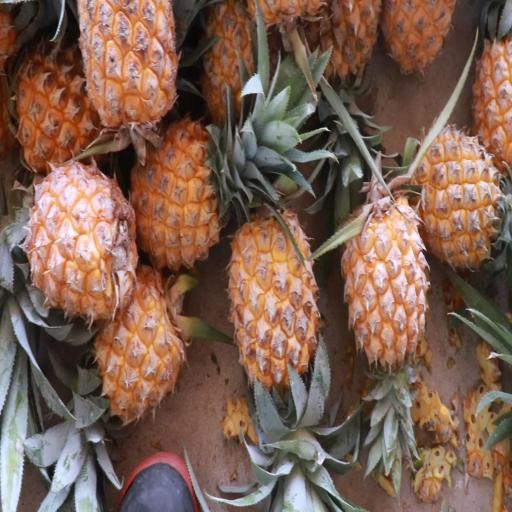Pineapple - v8 v1: (224, 201, 322, 403), (26, 158, 140, 324), (339, 185, 434, 371), (90, 258, 194, 427), (74, 2, 186, 148), (10, 20, 118, 169), (130, 109, 224, 274), (406, 123, 506, 273), (473, 0, 512, 175)
